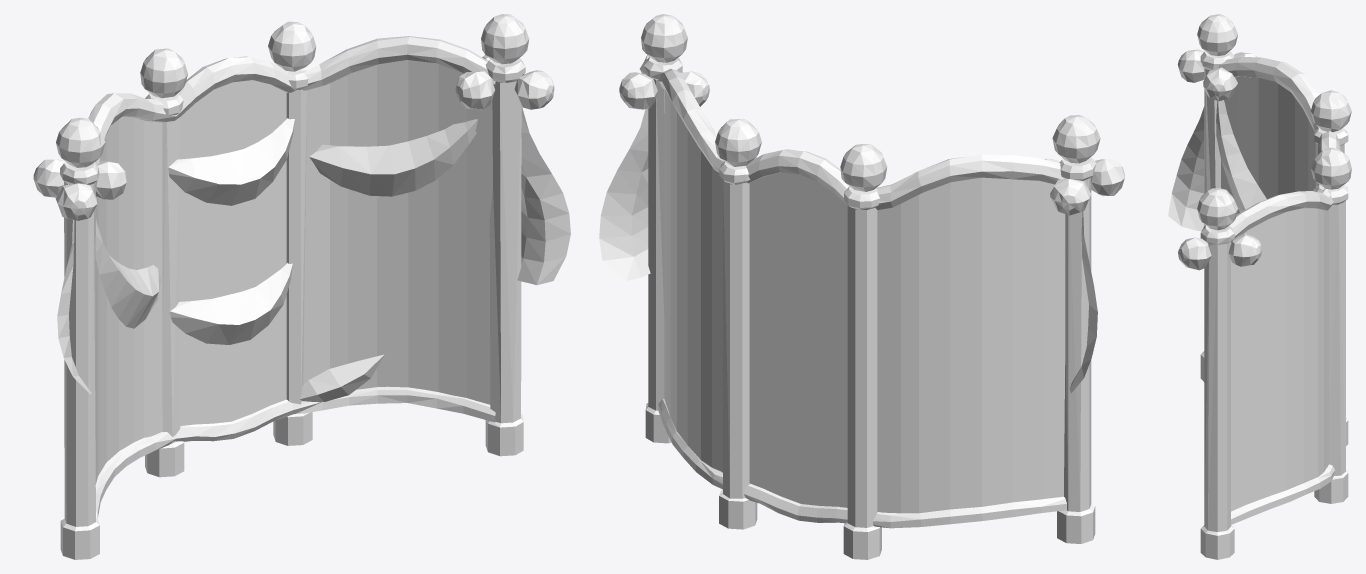
The model's file is g_k_screen.glb.
3 renders of one model, left to right at view 1: azimuth 30°, elevation 25°; view 2: azimuth 150°, elevation 25°; view 3: azimuth 270°, elevation 25°, orthographic. The views are drawn at different scales.
Parts seen in each view (by area): view 1: geometry_0; view 2: geometry_0; view 3: geometry_0.
Part boxes in pixels (x1,y1,x2,y2): geometry_0: [33, 14, 570, 559]; geometry_0: [599, 14, 1124, 559]; geometry_0: [1168, 14, 1351, 559].
Bounding box in the file's own units: 0.2002 × 0.1631 × 0.0742.
Materials: 1 (1 with a texture image).
